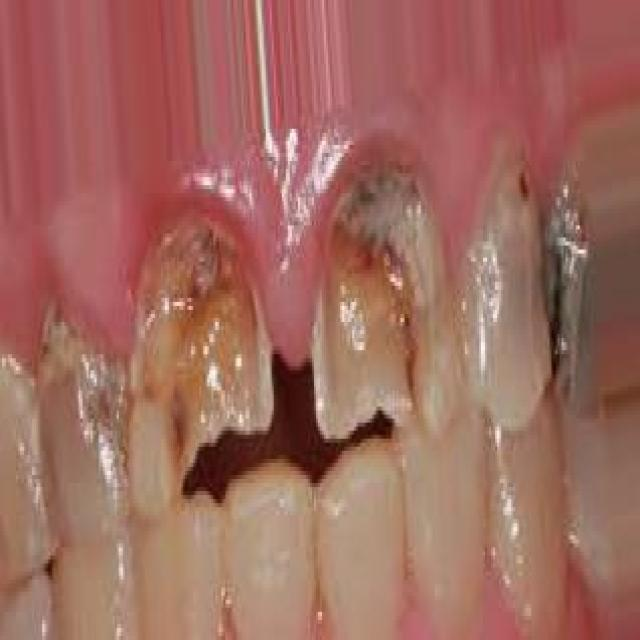caries: (318, 153, 446, 429), (132, 211, 270, 456), (533, 205, 583, 382), (497, 146, 545, 221)
